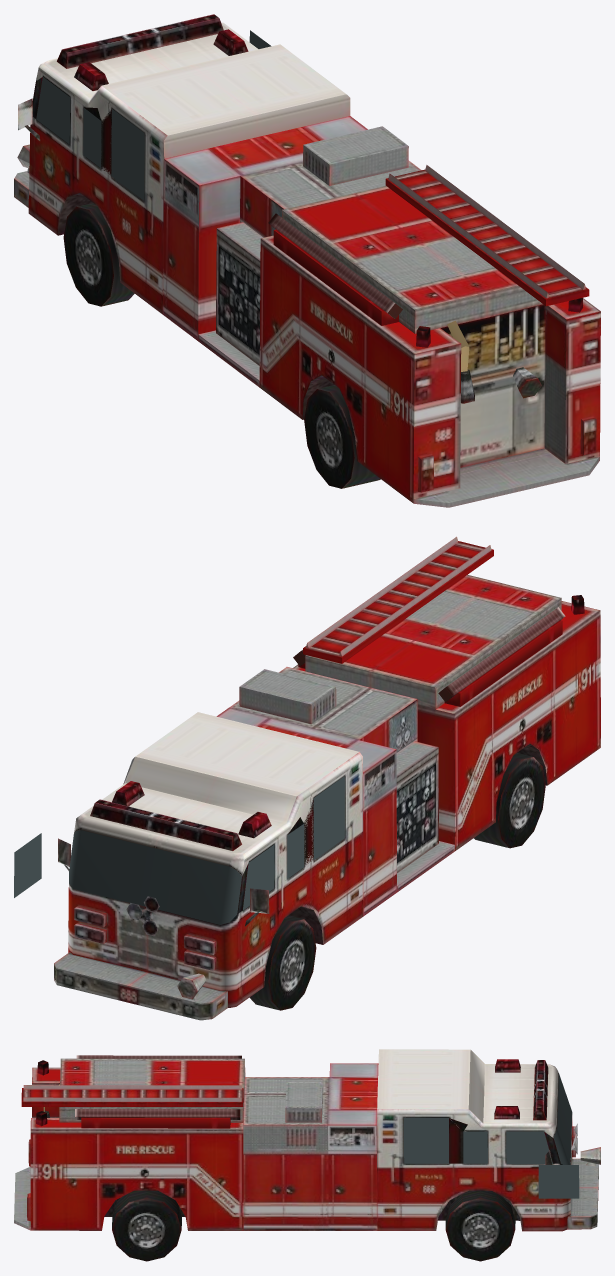
File: p54_33_fire_truck_night.glb
3 views of the same model, one above another, from view 1: azimuth 30°, elevation 25°; view 2: azimuth 150°, elevation 25°; view 3: azimuth 270°, elevation 25° (orthographic). The views are drawn at different scales.
Parts seen in each view (by area): view 1: Body, Glass; view 2: Body, Glass; view 3: Body, Glass.
Boxes of the visible parts, x1,y1,x2,y2 form: Body: (14, 14, 600, 507); Glass: (36, 30, 271, 200); Body: (54, 536, 600, 1020); Glass: (14, 776, 344, 924); Body: (14, 1049, 600, 1261); Glass: (404, 1074, 579, 1198).
Size of the model in its own units: 3.65 by 3.17 by 10.69.
2 materials, 2 textured.
